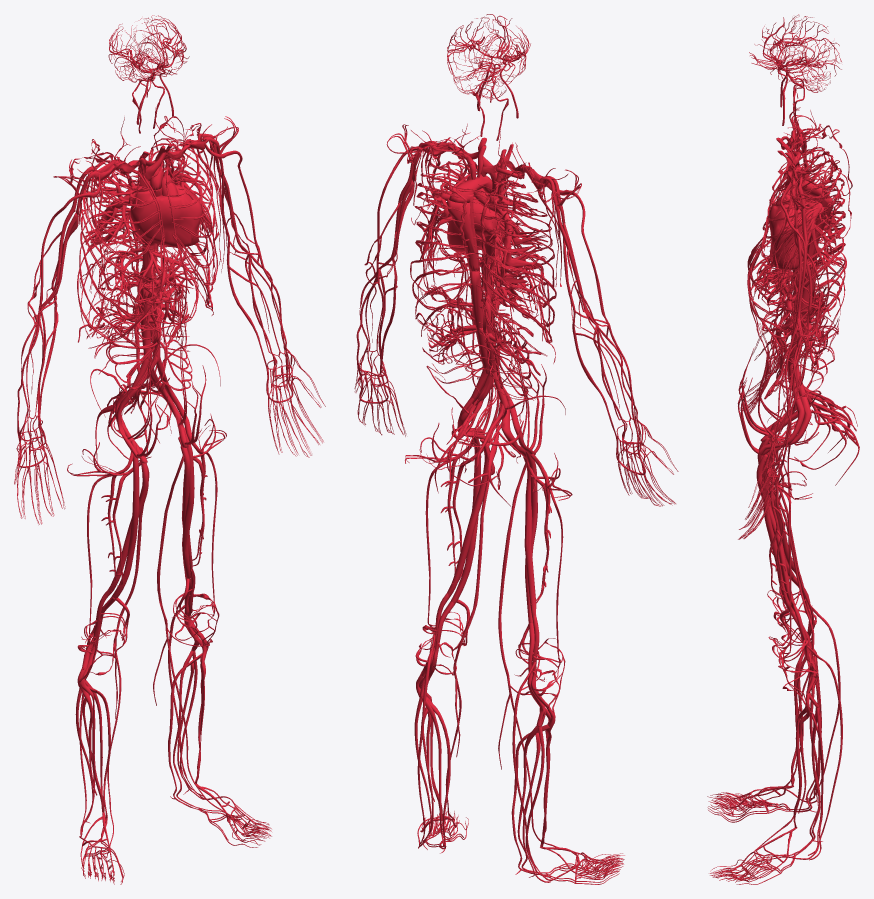
The model's file is cardiovascular.glb.
3 views of the same model, side by side, from view 1: azimuth 30°, elevation 25°; view 2: azimuth 150°, elevation 25°; view 3: azimuth 270°, elevation 25° (orthographic). The views are drawn at different scales.
Parts seen in each view (by area): view 1: W_SOMA_pericardium, W_FJ1994, W_FJ1961, W_FJ1985, W_FJ2103, W_FJ2143, W_FJ2145, W_FJ1975, W_FJ2272, W_FJ2074, W_FJ2220, W_FJ2144; view 2: W_FJ1961, W_FJ1994, W_FJ2145, W_FJ3427, W_FJ1985, W_FJ1975, W_SOMA_pericardium, W_FJ2103, W_FJ2102, W_FJ2144, W_FJ2074, W_FJ2272 (+4 smaller); view 3: W_FJ1985, W_FJ1975, W_SOMA_pericardium, W_FJ2220, W_FJ2145, W_FJ2103, W_FJ2102, W_FJ1994, W_FJ2074, W_FJ2121, W_FJ2218, W_FJ1961 (+16 smaller).
Boxes of the visible parts, <box> form: W_SOMA_pericardium: <box>130,185,202,247</box>; W_FJ1994: <box>77,155,164,339</box>; W_FJ1961: <box>77,160,163,341</box>; W_FJ1985: <box>150,138,217,307</box>; W_FJ2103: <box>153,455,227,813</box>; W_FJ2143: <box>111,440,139,600</box>; W_FJ2145: <box>107,465,149,847</box>; W_FJ1975: <box>148,143,219,310</box>; W_FJ2272: <box>17,174,100,440</box>; W_FJ2074: <box>182,427,194,579</box>; W_FJ2220: <box>204,141,287,371</box>; W_FJ2144: <box>107,460,148,591</box>; W_FJ1961: <box>459,190,556,356</box>; W_FJ1994: <box>482,180,555,355</box>; W_FJ2145: <box>498,463,579,853</box>; W_FJ3427: <box>447,198,488,368</box>; W_FJ1985: <box>410,161,480,320</box>; W_FJ1975: <box>410,174,479,324</box>; W_SOMA_pericardium: <box>447,196,508,256</box>; W_FJ2103: <box>445,476,489,820</box>; W_FJ2102: <box>447,445,488,596</box>; W_FJ2144: <box>523,457,536,617</box>; W_FJ2074: <box>451,437,481,603</box>; W_FJ2272: <box>547,183,639,451</box>; W_FJ1985: <box>749,170,846,357</box>; W_FJ1975: <box>750,180,846,357</box>; W_SOMA_pericardium: <box>768,198,816,269</box>; W_FJ2220: <box>780,180,806,467</box>; W_FJ2145: <box>751,445,820,796</box>; W_FJ2103: <box>754,466,821,851</box>; W_FJ2102: <box>756,454,795,605</box>; W_FJ1994: <box>751,147,844,301</box>; W_FJ2074: <box>763,447,793,612</box>; W_FJ2121: <box>794,645,842,859</box>; W_FJ2218: <box>782,231,812,448</box>; W_FJ1961: <box>751,152,845,304</box>.
Bounding box in the file's own units: 0.6536 × 1.66 × 0.2755.
